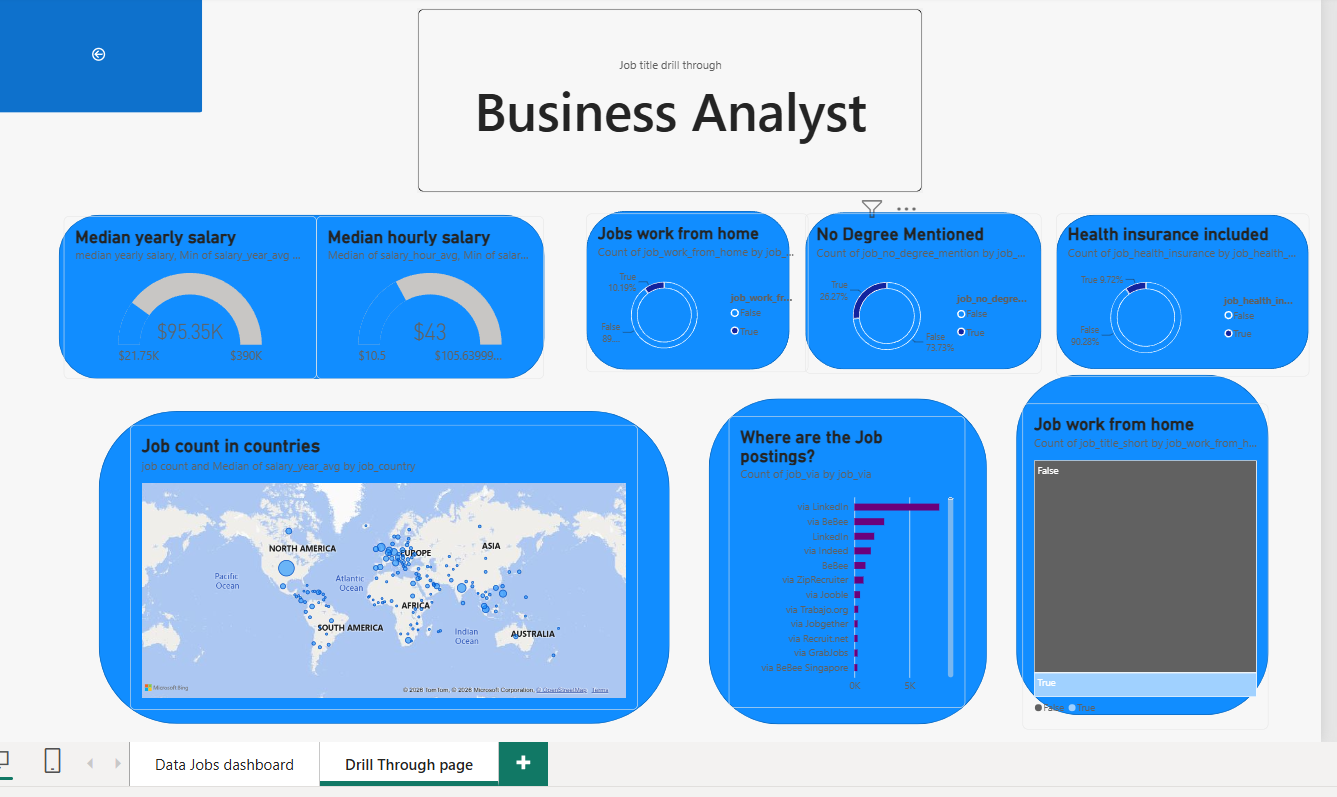

This screenshot's page, from the dashboard's own definition file:
{"tool":"powerbi","page":{"name":"Drill Through page ","canvas":[1920,1080],"ordinal":1},"visuals":[{"type":"group","id":"g1","title":"Group 1","box":[91.8,311,1809.4,743],"z":0},{"type":"shape","box":[91.8,317.3,703.3,237.9],"z":0,"group":"g1"},{"type":"cardVisual","fields":{"Data":["Min(job_postings_flat.job_title_short)"]},"box":[611.7,17.8,731.8,266.9],"z":1000},{"type":"shape","box":[855.6,311,294.3,229.6],"z":1000,"group":"g1"},{"type":"actionButton","box":[0,0,300.3,169],"z":2000},{"type":"shape","box":[1172.8,313.1,342.3,227.5],"z":2000,"group":"g1"},{"type":"shape","box":[1536,317.3,365.2,223.3],"z":3000,"group":"g1"},{"type":"gauge","title":"Median yearly salary","fields":{"MaxValue":["Max(job_postings_flat.salary_year_avg)1"],"MinValue":["Min(job_postings_flat.salary_year_avg)"],"Y":["Median(job_postings_flat.salary_year_avg)"]},"box":[100.2,319.3,366,236],"z":3000},{"type":"gauge","title":"Median hourly salary","fields":{"MaxValue":["Max(job_postings_flat.salary_hour_avg)"],"MinValue":["Min(job_postings_flat.salary_hour_avg)"],"Y":["Median(job_postings_flat.salary_hour_avg)"]},"box":[465.4,319.3,329.7,235.8],"z":4000},{"type":"shape","box":[150.2,601.1,826.4,452.9],"z":4000,"group":"g1"},{"type":"donutChart","title":"Jobs work from home","fields":{"Category":["job_postings_flat.job_work_from_home"],"Y":["CountNonNull(job_postings_flat.job_work_from_home)"]},"box":[855.7,315.1,321.4,229.6],"z":5000},{"type":"shape","box":[1033,582.3,402.8,471.7],"z":5000,"group":"g1"},{"type":"donutChart","title":"No Degree Mentioned ","fields":{"Category":["job_postings_flat.job_no_degree_mention"],"Y":["CountNonNull(job_postings_flat.job_no_degree_mention)"]},"box":[1172.9,315.1,342.3,231.7],"z":6000},{"type":"shape","box":[1477.5,548.9,365.2,492.5],"z":6000,"group":"g1"},{"type":"donutChart","title":"Health insurance included ","fields":{"Category":["job_postings_flat.job_health_insurance"],"Y":["CountNonNull(job_postings_flat.job_health_insurance)"]},"box":[1536,315.1,366,236],"z":7000},{"type":"map","title":"Job count in countries","fields":{"Category":["job_postings_flat.job_country"],"Size":["CountNonNull(job_postings_flat.job_title_short)"]},"box":[195,620,735,412.5],"z":8000},{"type":"treemap","title":"Job work from home","fields":{"Group":["job_postings_flat.job_work_from_home"],"Values":["CountNonNull(job_postings_flat.job_title_short)"]},"box":[1487.5,590,356,472],"z":9000},{"type":"barChart","title":"Where are the Job postings?","fields":{"Category":["job_postings_flat.job_via"],"Y":["CountNonNull(job_postings_flat.job_via)"]},"box":[1062.5,607.5,342.5,422.5],"z":10000}]}

Visuals, with their boxes in screenshot pixels (x1, y1, x2, y2):
"Group 1" group: locate(60, 207, 1302, 717)
shape: locate(60, 211, 543, 374)
cardVisual - Min(job_postings_flat.job_title_short): locate(417, 5, 919, 189)
shape: locate(584, 207, 786, 364)
actionButton: locate(0, 0, 203, 109)
shape: locate(802, 208, 1037, 364)
shape: locate(1051, 211, 1302, 364)
"Median yearly salary" gauge: locate(65, 212, 317, 374)
"Median hourly salary" gauge: locate(316, 212, 543, 374)
shape: locate(100, 406, 667, 717)
"Jobs work from home" donutChart: locate(584, 209, 805, 367)
shape: locate(706, 393, 983, 717)
"No Degree Mentioned " donutChart: locate(802, 209, 1037, 369)
shape: locate(1011, 370, 1262, 708)
"Health insurance included " donutChart: locate(1051, 209, 1303, 371)
"Job count in countries" map: locate(130, 419, 635, 702)
"Job work from home" treemap: locate(1018, 398, 1263, 722)
"Where are the Job postings?" barChart: locate(726, 410, 961, 700)
